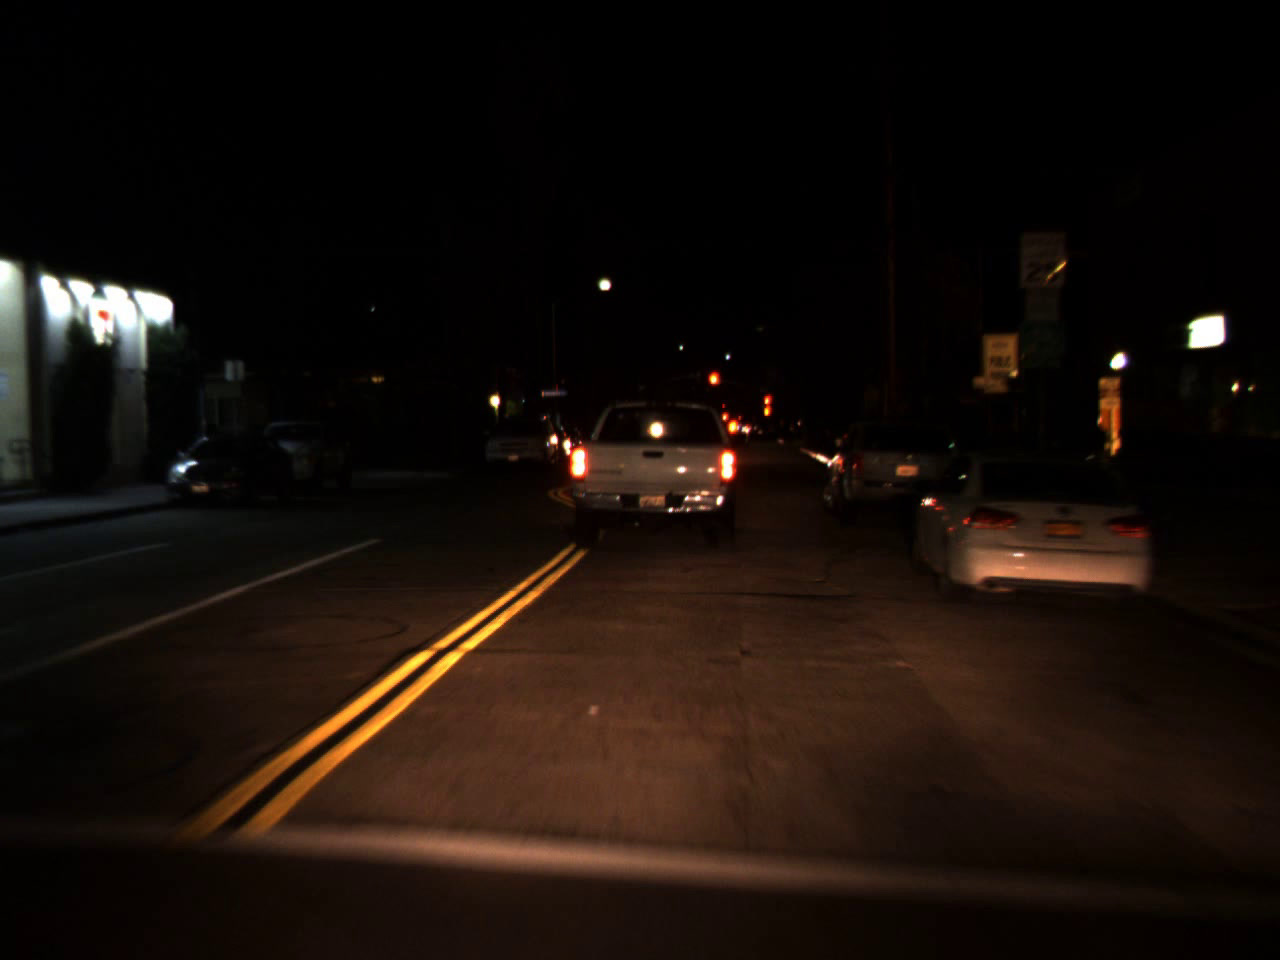stop: (706, 369, 721, 401), (763, 393, 772, 409)
